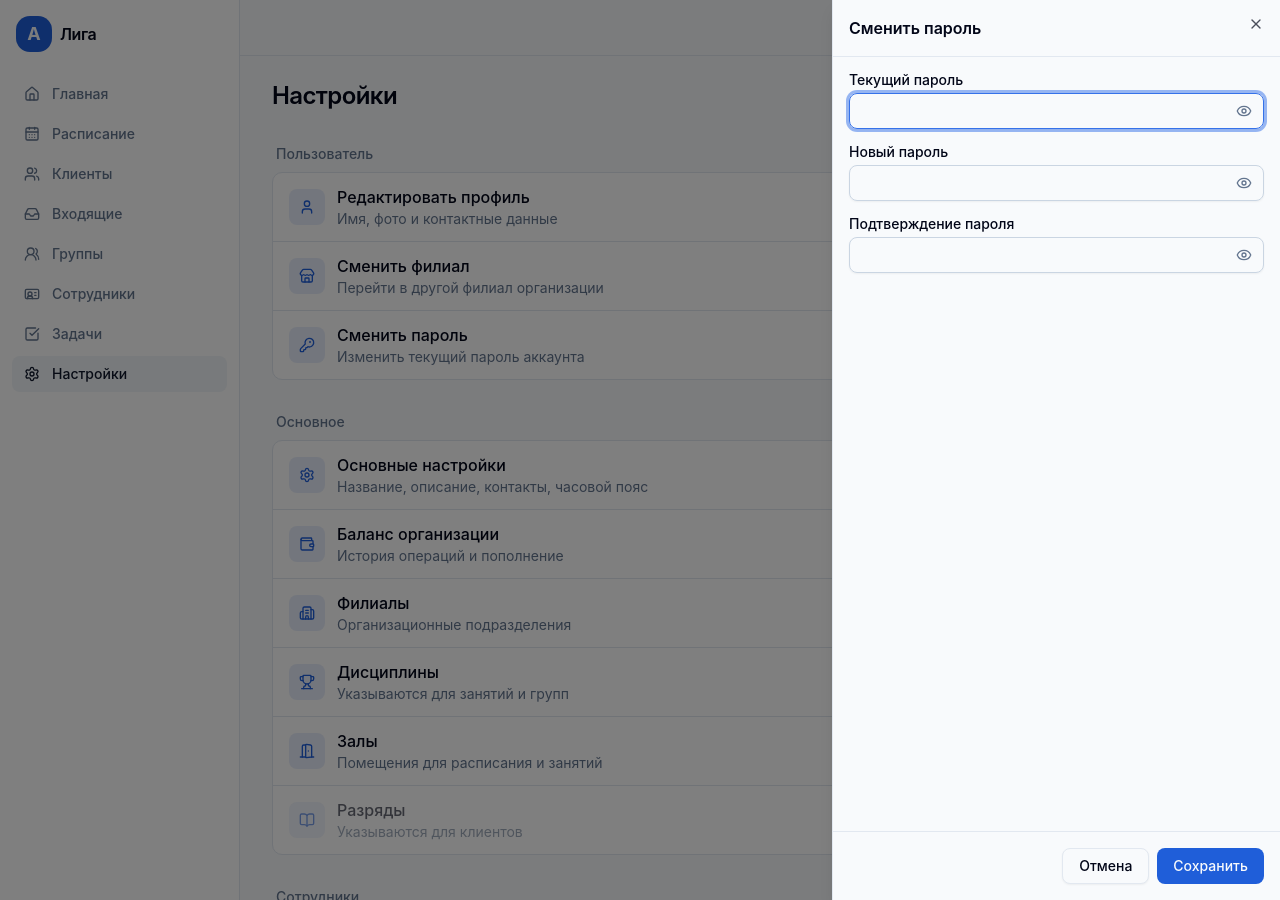
Scenario: смена пароля › несовпадающее подтверждение не отправляется
In the password field labelled "Текущий пароль": (1056, 111) [849,93,1264,129], type "old-secret"
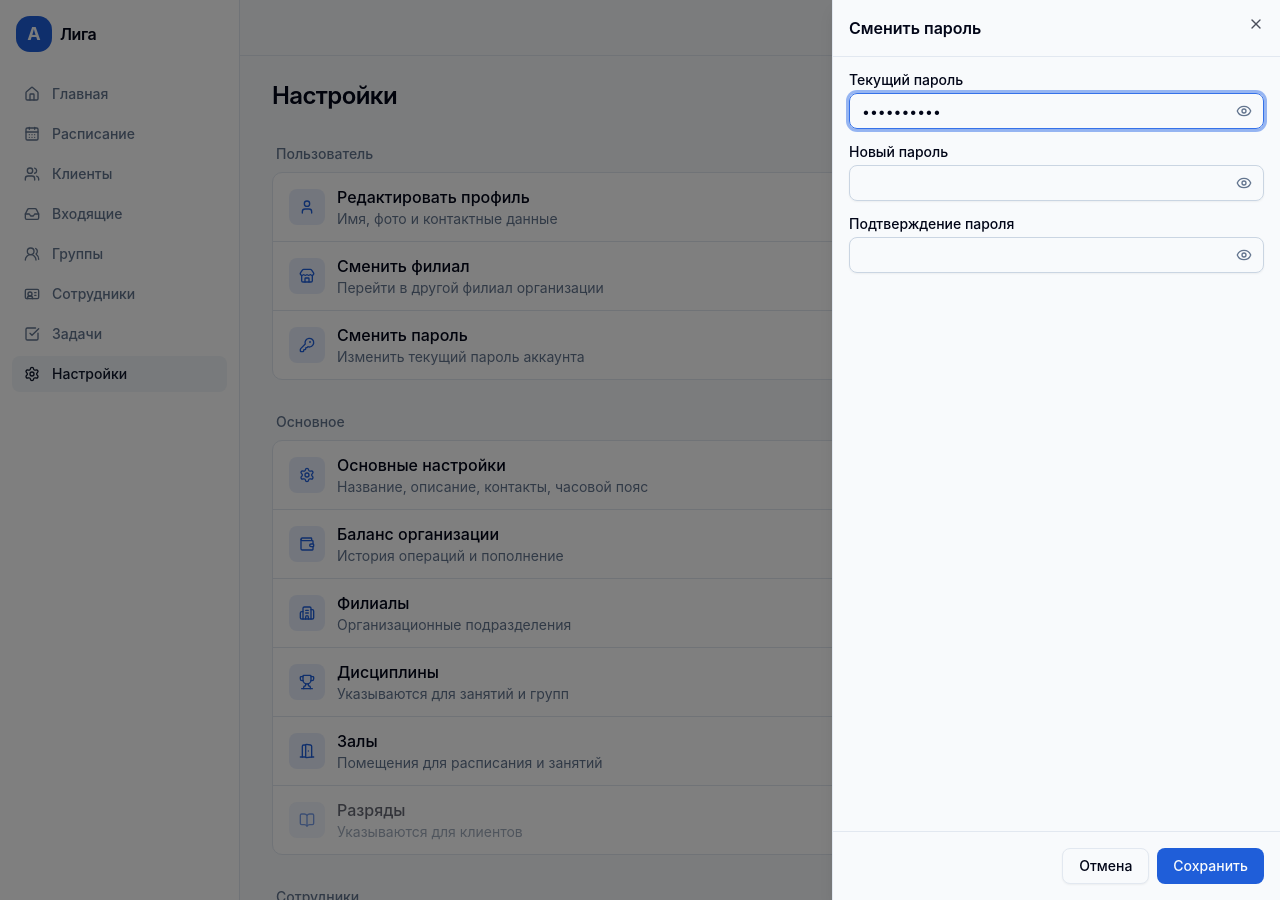
In the password field labelled "Новый пароль": (1056, 183) [849,165,1264,201], type "new-secret"
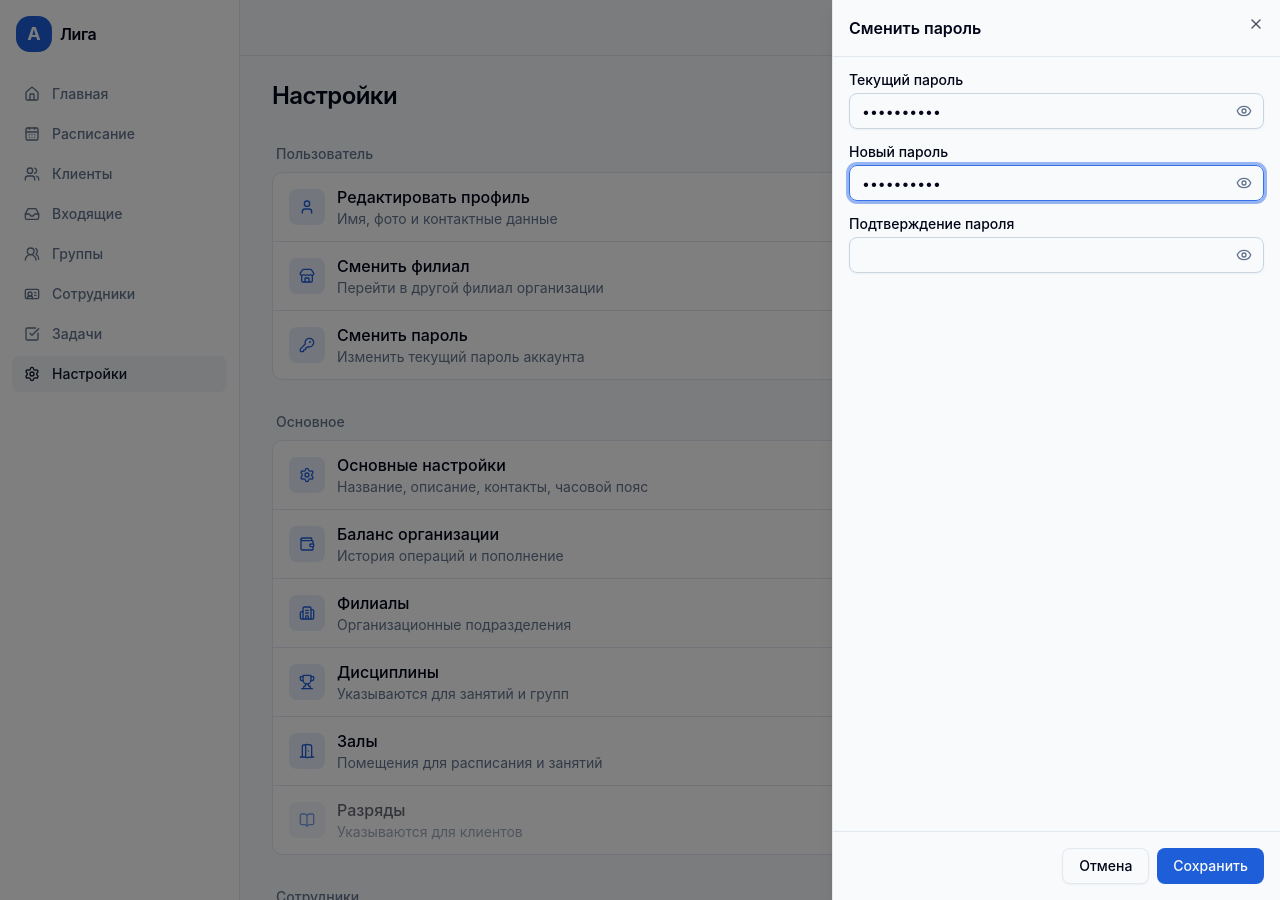
In the password field labelled "Подтверждение пароля": (1056, 255) [849,237,1264,273], type "other-secret"
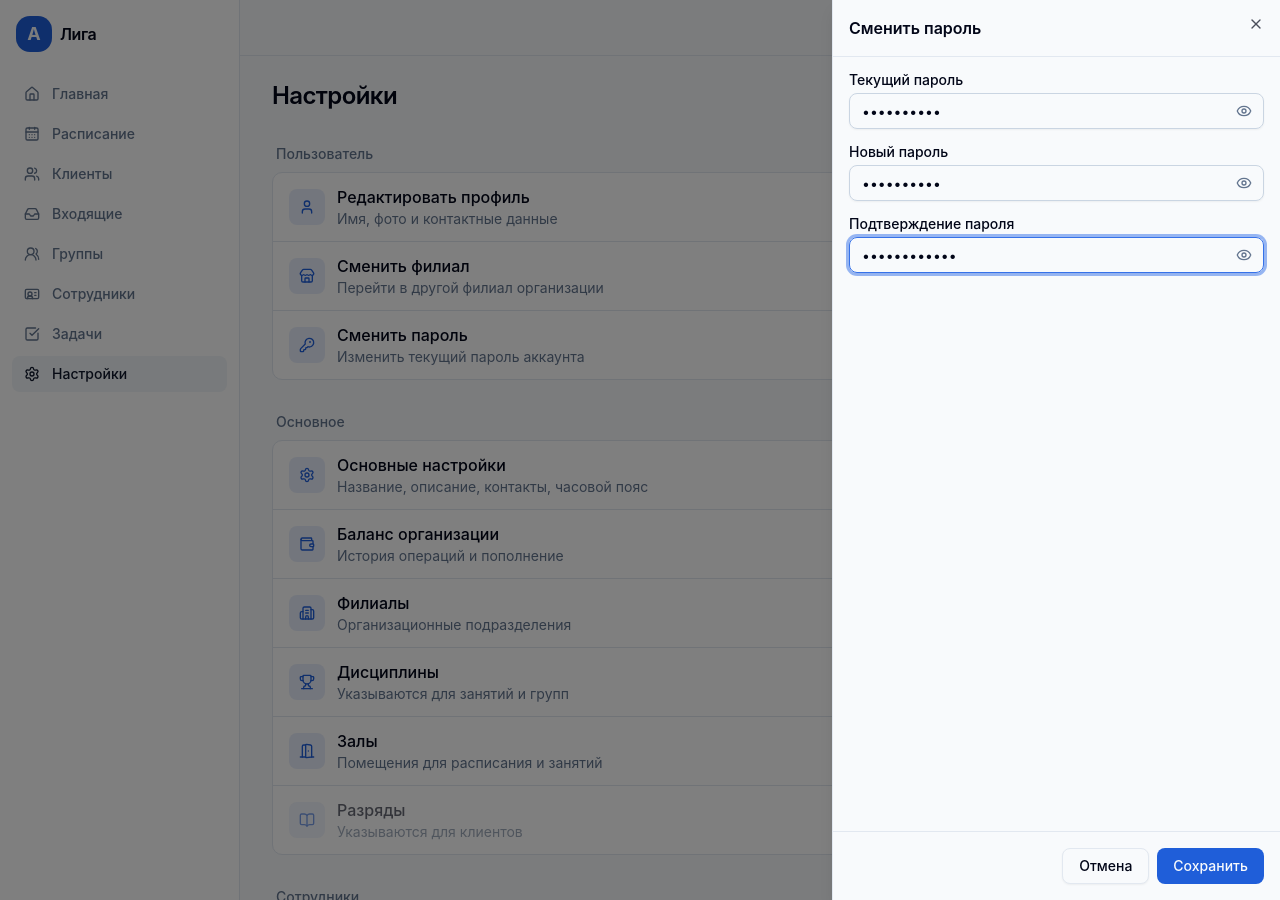
Click the button "Сохранить": click(1211, 866) [1157,848,1264,884]
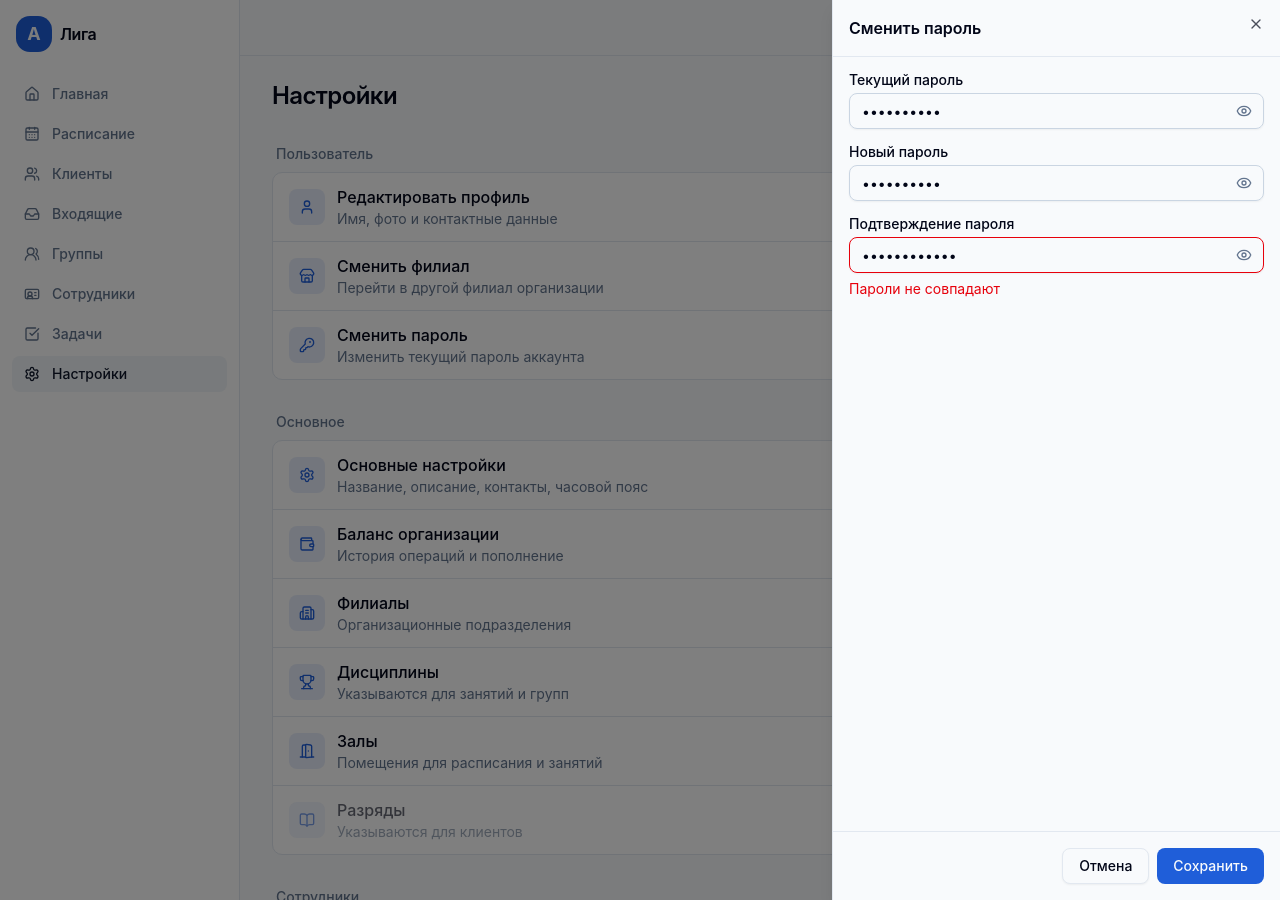
Expected: the text "Пароли не совпадают" is shown, [849,280,1000,297]
